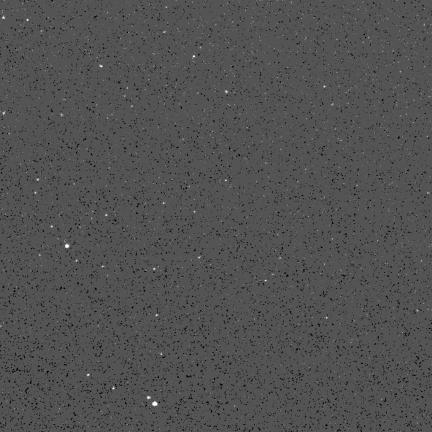blob: (152, 402, 158, 407), (225, 90, 229, 95), (65, 244, 69, 248), (112, 387, 116, 390), (147, 396, 151, 399), (100, 65, 103, 68)
